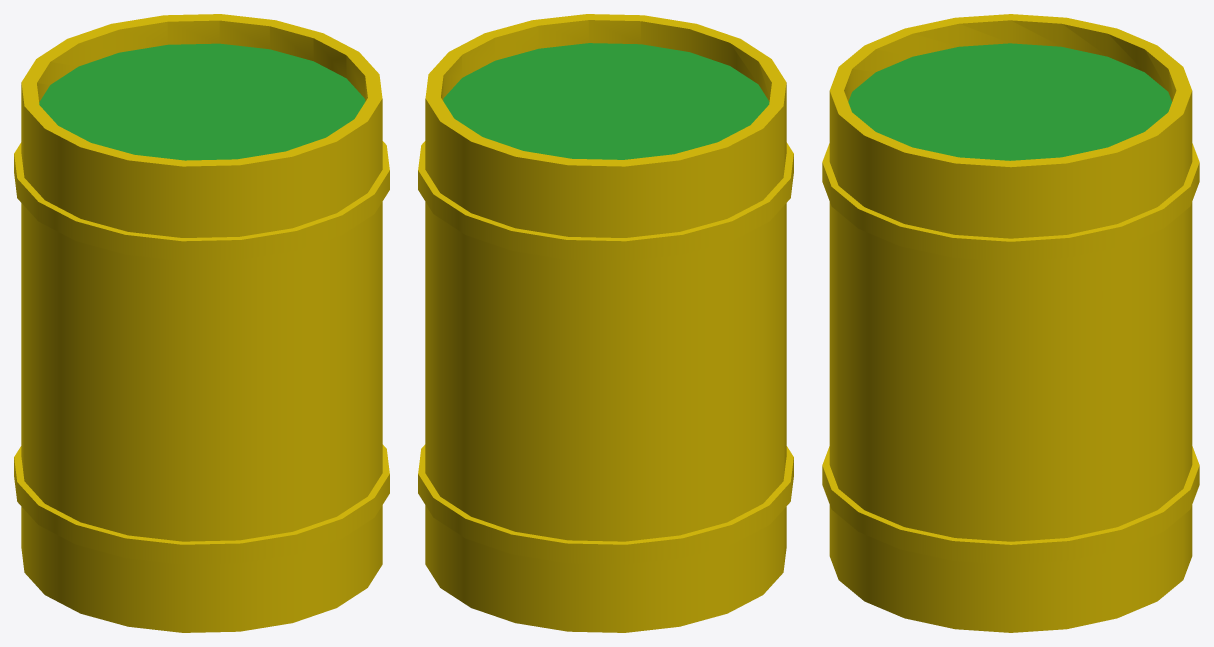
File: Barrel.fbx
The picture shows the model from 3 angles, left to right: view 1: azimuth 30°, elevation 25°; view 2: azimuth 150°, elevation 25°; view 3: azimuth 270°, elevation 25°; orthographic projection.
Parts seen in each view (by area): view 1: pCylinder11; view 2: pCylinder11; view 3: pCylinder11.
Boxes of the visible parts, bbox=[...] form: pCylinder11: bbox=[14, 14, 389, 632]; pCylinder11: bbox=[418, 14, 793, 632]; pCylinder11: bbox=[822, 14, 1199, 632].
Size of the model in its own units: 1.58 by 2.15 by 1.58.
